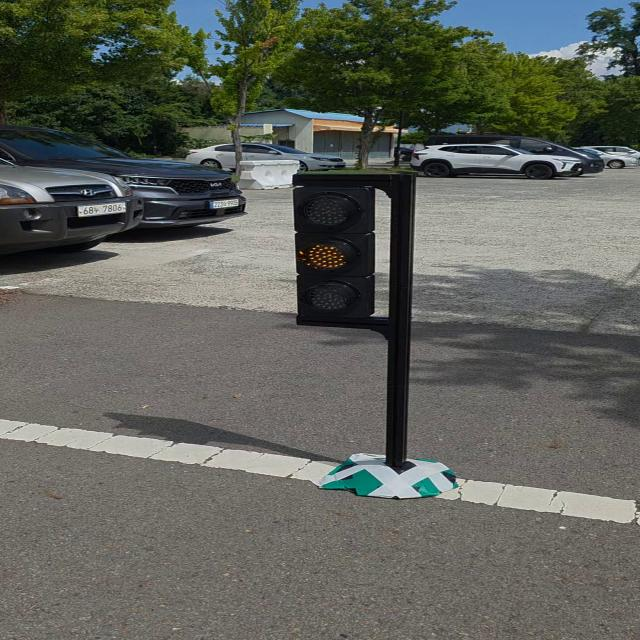yellow: (271, 182, 388, 322)
